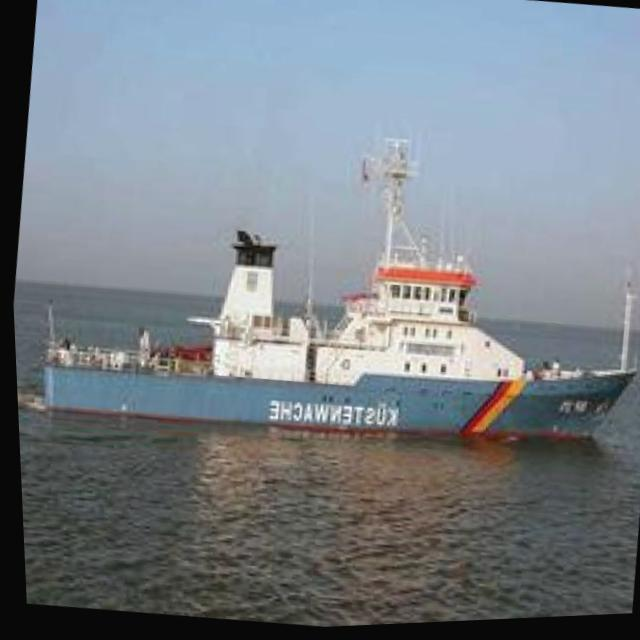ship2: (37, 143, 636, 451)
